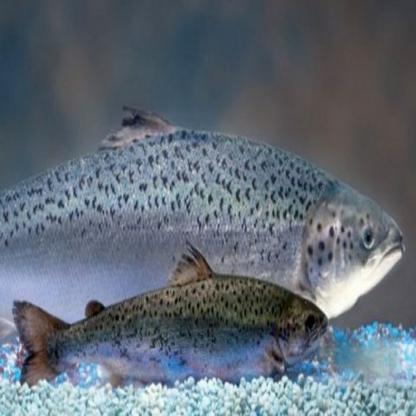fish: (0, 102, 406, 322), (15, 242, 330, 408)
